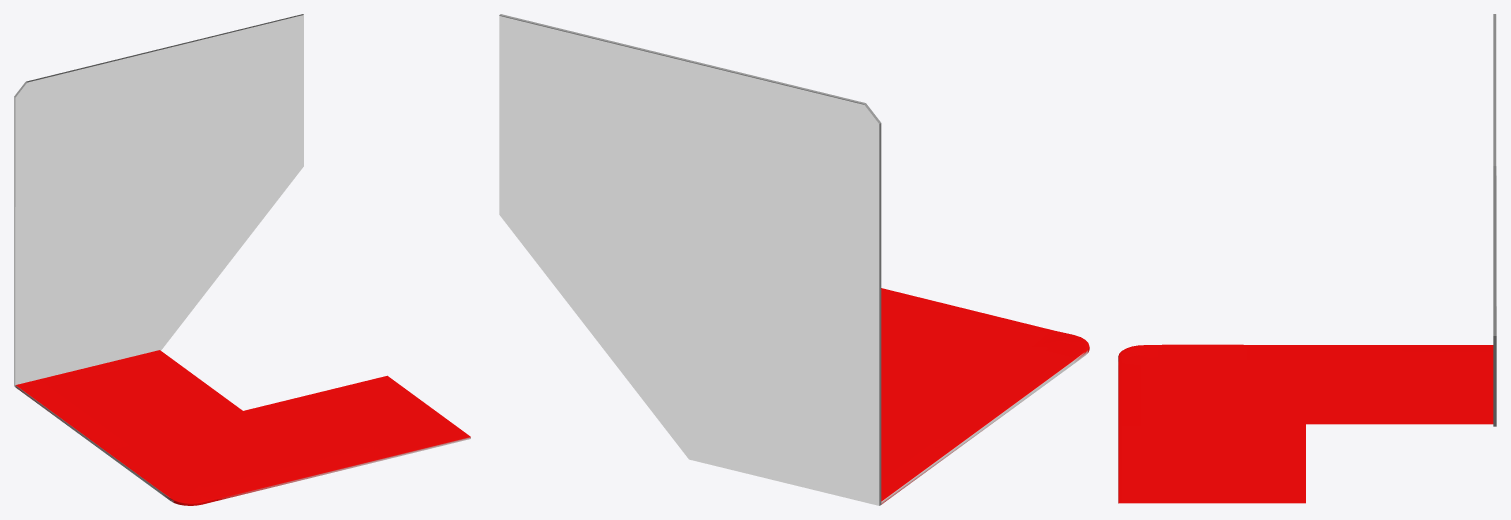
The model's file is SM_Pavement_12m_L_low.fbx.
3 renders of one model, left to right at view 1: azimuth 30°, elevation 25°; view 2: azimuth 150°, elevation 25°; view 3: azimuth 270°, elevation 25°, orthographic. The views are drawn at different scales.
Visible parts, largest first — view 1: SM_Pavement_12m_L_low_ConvexHulls, SM_Pavement_12m_L_low_LOD0; view 2: SM_Pavement_12m_L_low_ConvexHulls, SM_Pavement_12m_L_low_LOD0; view 3: SM_Pavement_12m_L_low_LOD0, SM_Pavement_12m_L_low_ConvexHulls.
Part boxes in pixels (x1=…): SM_Pavement_12m_L_low_ConvexHulls: x1=14, y1=14, x2=303, y2=386; SM_Pavement_12m_L_low_LOD0: x1=15, y1=350, x2=470, y2=505; SM_Pavement_12m_L_low_ConvexHulls: x1=499, y1=14, x2=881, y2=505; SM_Pavement_12m_L_low_LOD0: x1=881, y1=288, x2=1089, y2=504; SM_Pavement_12m_L_low_LOD0: x1=1118, y1=344, x2=1493, y2=503; SM_Pavement_12m_L_low_ConvexHulls: x1=1493, y1=14, x2=1496, y2=426.
Size of the model in its own units: 2400 by 2420 by 2401.
